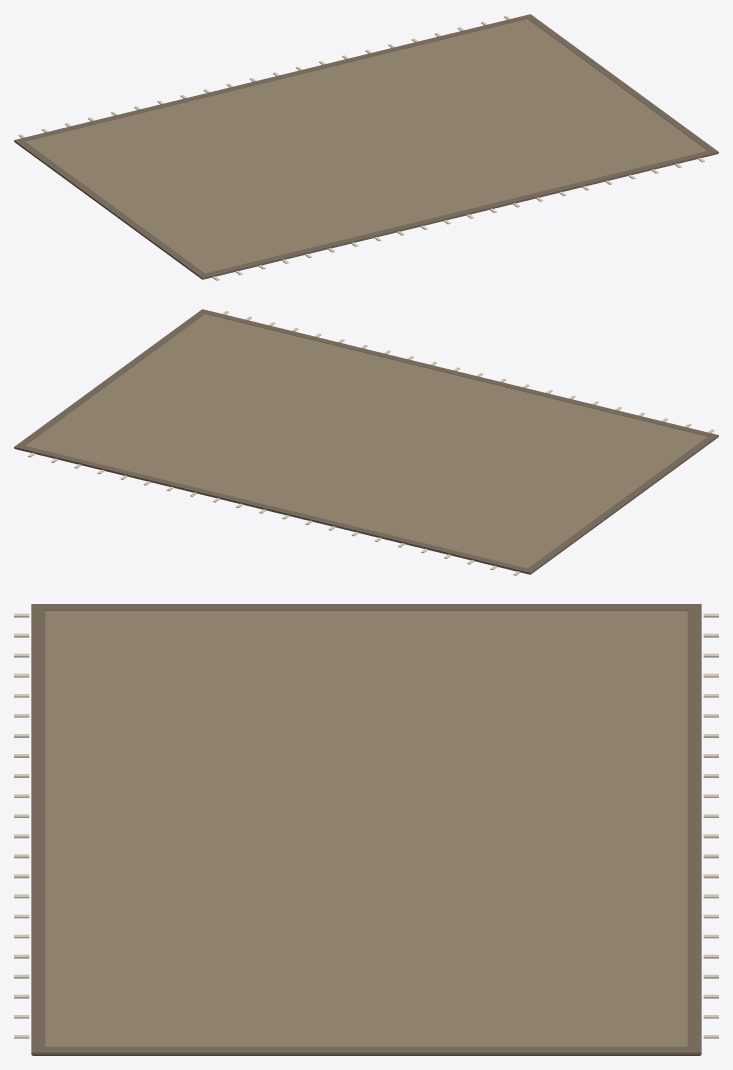
3 renders of one model, top to bottom at view 1: azimuth 30°, elevation 25°; view 2: azimuth 150°, elevation 25°; view 3: azimuth 270°, elevation 25°, orthographic. The views are drawn at different scales.
Parts seen in each view (by area): view 1: rug; view 2: rug; view 3: rug.
Boxes of the visible parts, x1,y1,x2,y2 form: rug: [14, 14, 718, 280]; rug: [14, 309, 718, 575]; rug: [14, 604, 718, 1055].
Bounding box in the file's own units: 3.8 × 0.016 × 2.53.
